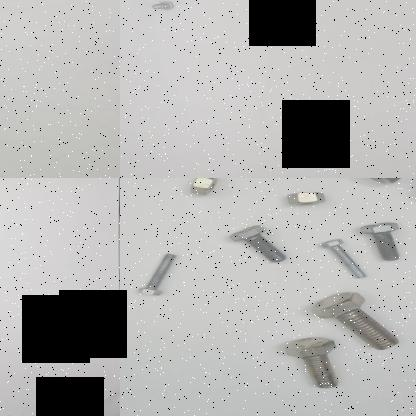Bolts: (307, 289, 401, 351), (277, 332, 352, 388), (224, 222, 300, 265), (359, 214, 412, 264), (318, 234, 370, 282), (138, 250, 185, 302), (150, 0, 175, 14)
NUTS: (282, 187, 334, 211), (185, 178, 225, 195), (354, 178, 409, 186)
